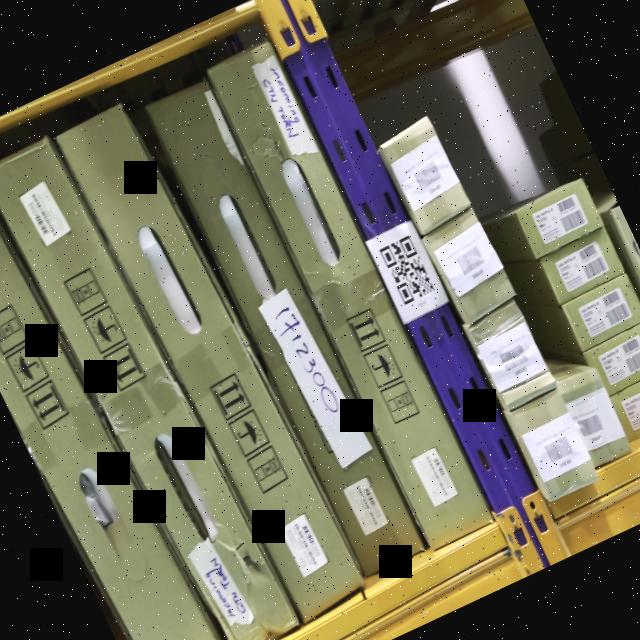box: (57, 105, 364, 620), (0, 140, 297, 640), (212, 48, 489, 548), (152, 82, 423, 575), (381, 115, 470, 232), (426, 209, 515, 322), (511, 391, 599, 501), (466, 302, 553, 406), (518, 180, 602, 252), (543, 232, 623, 298), (564, 279, 640, 346)
